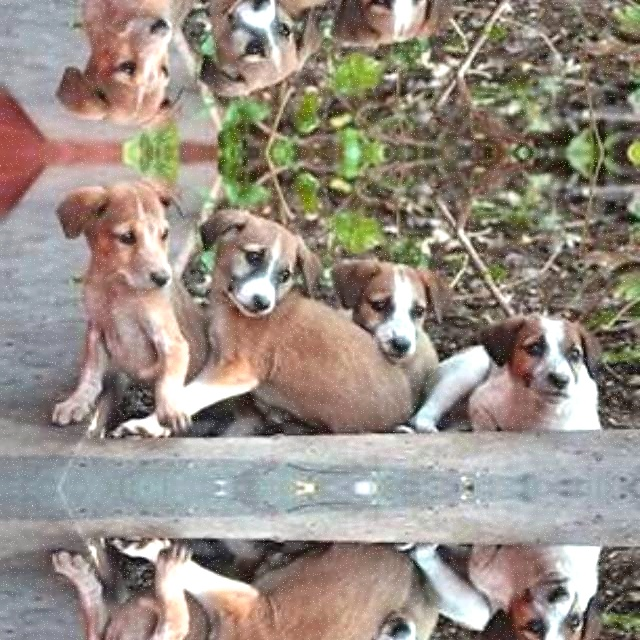dog: (64, 173, 170, 429), (188, 194, 317, 398), (463, 296, 607, 452), (464, 523, 607, 640), (333, 248, 459, 380), (188, 0, 317, 110), (64, 0, 170, 131), (64, 546, 170, 640), (188, 576, 317, 640), (333, 0, 459, 55), (333, 595, 459, 640), (464, 0, 607, 8)
